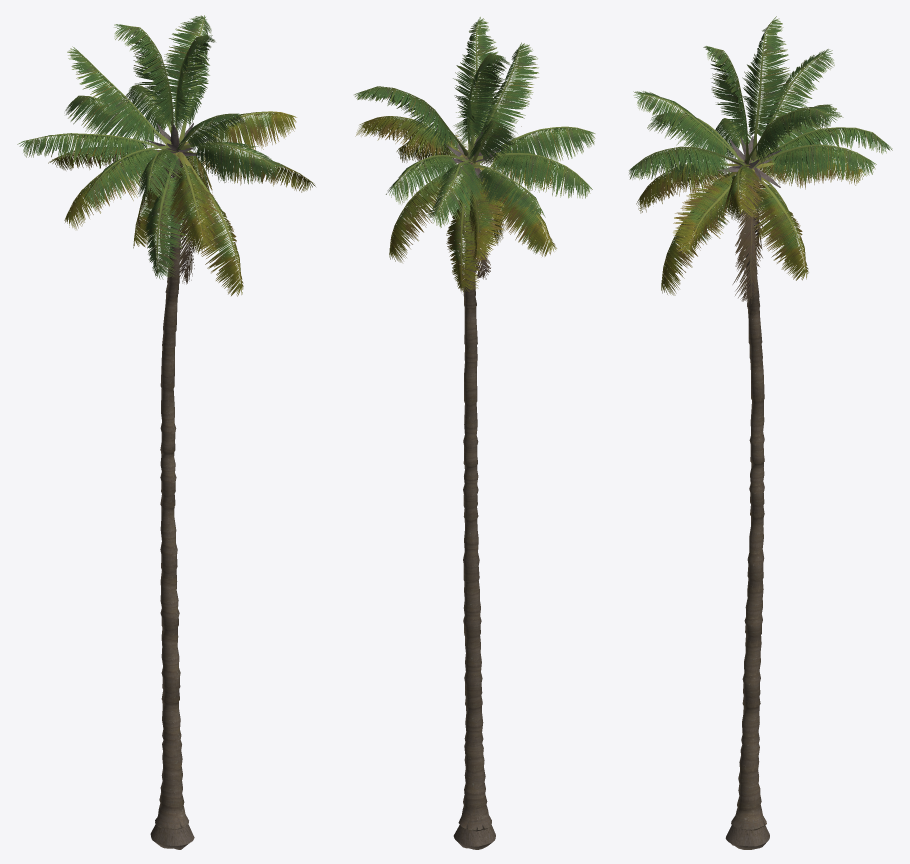
Rendered from SM_PalmCoconut_04.fbx.
3 renders of one model, left to right at view 1: azimuth 30°, elevation 25°; view 2: azimuth 150°, elevation 25°; view 3: azimuth 270°, elevation 25°, orthographic.
Parts seen in each view (by area): view 1: SM_PalmCoconut_04_LOD0; view 2: SM_PalmCoconut_04_LOD0; view 3: SM_PalmCoconut_04_LOD0.
Part boxes in pixels (x1=…): SM_PalmCoconut_04_LOD0: x1=17, y1=15, x2=315, y2=849; SM_PalmCoconut_04_LOD0: x1=354, y1=17, x2=595, y2=849; SM_PalmCoconut_04_LOD0: x1=629, y1=16, x2=892, y2=849.
Bounding box in the file's own units: 742 × 741 × 2451.
Materials: 2 (2 with a texture image).
